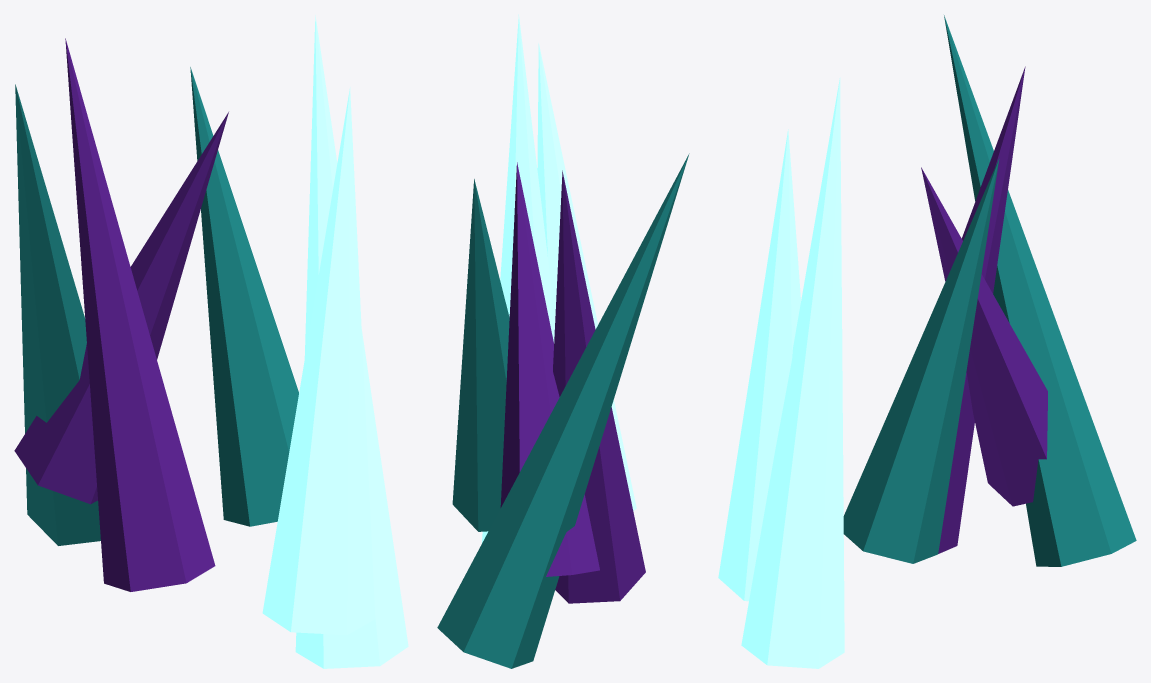
Rendered from Prop_OR_Crystal_15.glb.
The picture shows the model from 3 angles, left to right: view 1: azimuth 30°, elevation 25°; view 2: azimuth 150°, elevation 25°; view 3: azimuth 270°, elevation 25°; orthographic projection. The views are drawn at different scales.
Visible parts, largest first — view 1: Prop_OR_Crystal_15; view 2: Prop_OR_Crystal_15; view 3: Prop_OR_Crystal_15.
Part boxes in pixels (left/top/right/bottom): Prop_OR_Crystal_15: left=14, top=15, right=408, bottom=668; Prop_OR_Crystal_15: left=437, top=14, right=689, bottom=668; Prop_OR_Crystal_15: left=718, top=15, right=1136, bottom=668.
Bounding box in the file's own units: 0.7585 × 1.52 × 1.01.
